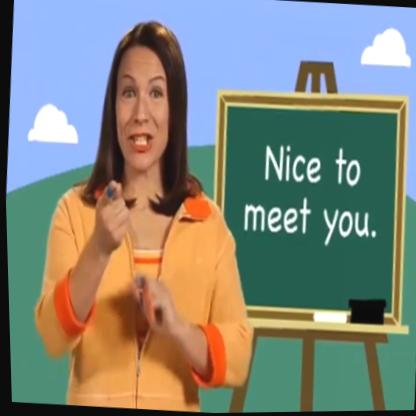NiceToMeetYou: (74, 164, 151, 269)
